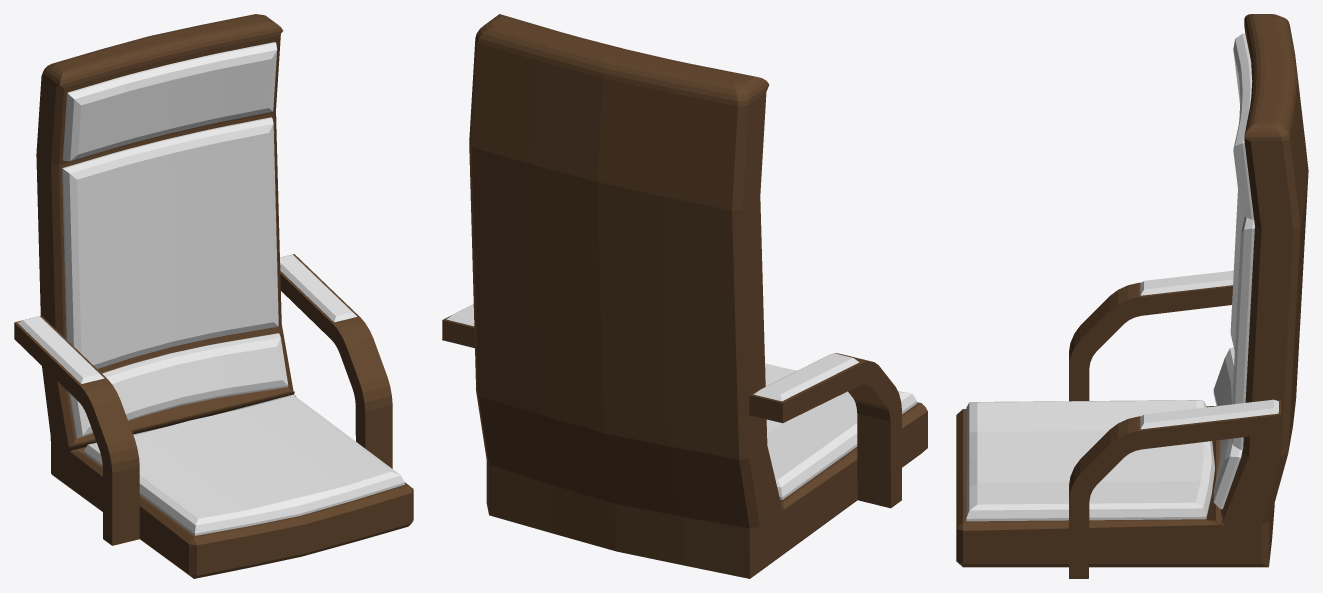
The model's file is Chair.fbx.
The picture shows the model from 3 angles, left to right: view 1: azimuth 30°, elevation 25°; view 2: azimuth 150°, elevation 25°; view 3: azimuth 270°, elevation 25°; orthographic projection. The views are drawn at different scales.
Parts seen in each view (by area): view 1: Chair_Red.049; view 2: Chair_Red.049; view 3: Chair_Red.049.
Part boxes in pixels (x1,y1,x2,y2): Chair_Red.049: (14,14,413,578); Chair_Red.049: (442,14,927,578); Chair_Red.049: (956,14,1308,578).
Bounding box in the file's own units: 56.1 × 78.78 × 56.35.
